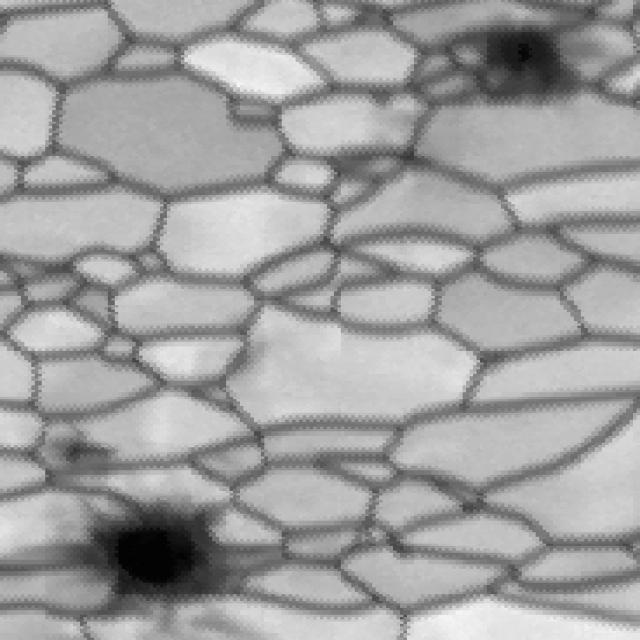good_void: (79, 495, 242, 628), (464, 17, 628, 123), (33, 418, 124, 474)
